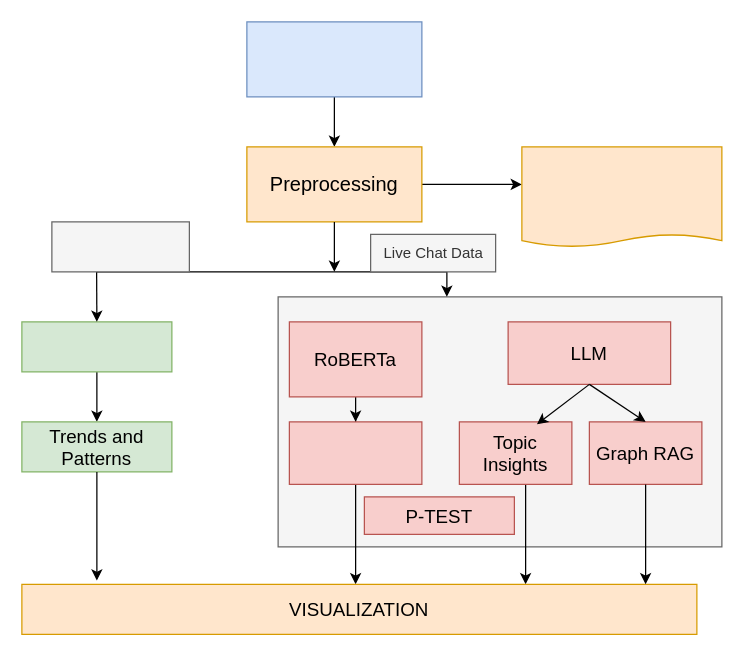
Some shapes in this 744 by 656 pixel diagram are drawn without their labels. The shapes that lost their labels are listed below. From the top down, each one's centre as x and y in pixels, then its label:
At point 334,59: "DATASET Construction".
At point 621,196: "1. Video Info Data 2. Live Chat Data".
At point 120,246: "Video Info Data, Live Chat Data".
At point 96,346: "EDA Techniques".
At point 355,452: "Sentiment Scores".
